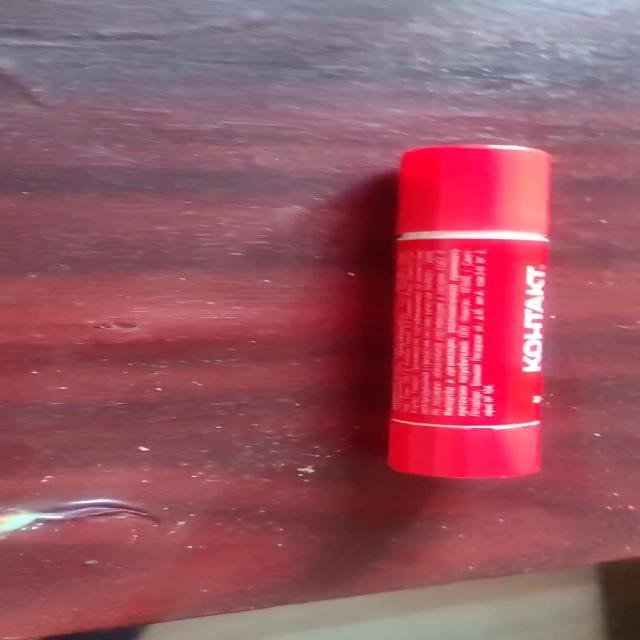glue: (385, 143, 553, 479)
